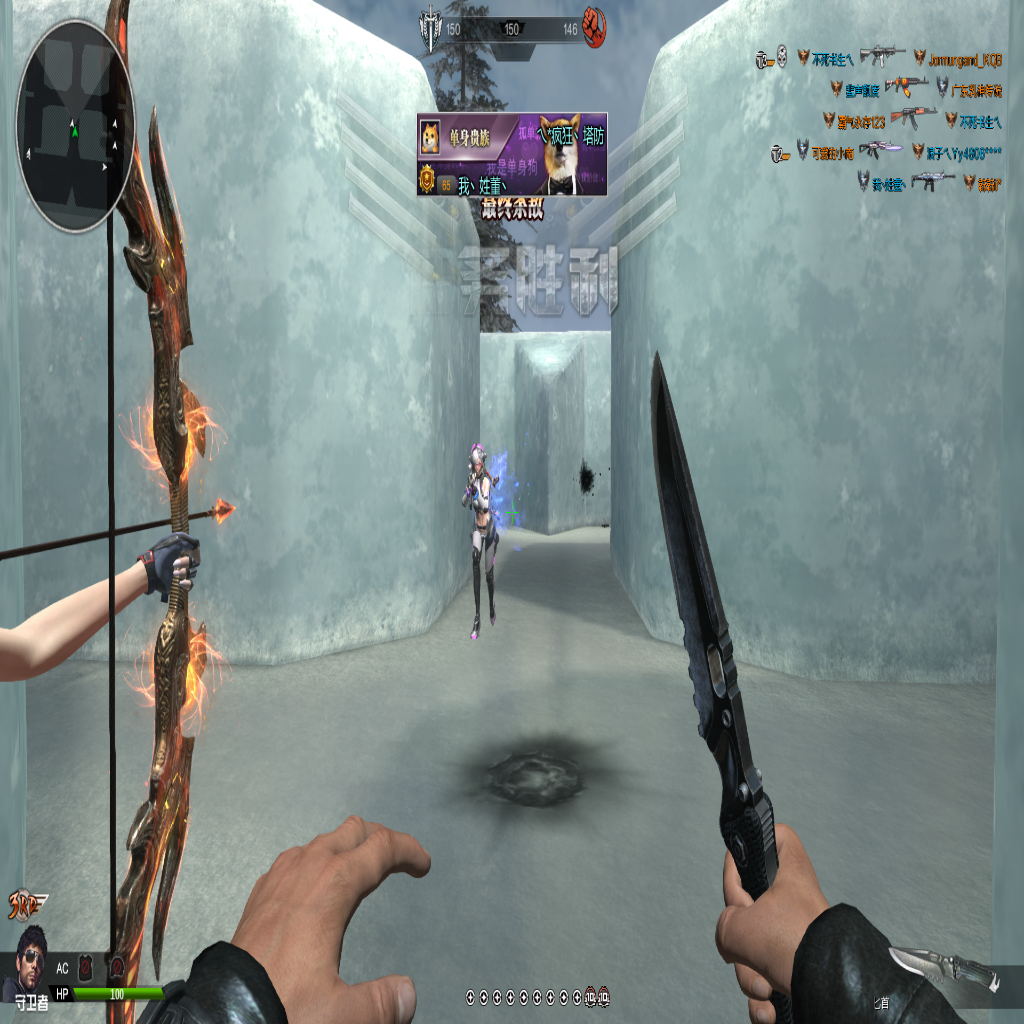tt: (468, 446, 499, 634)
